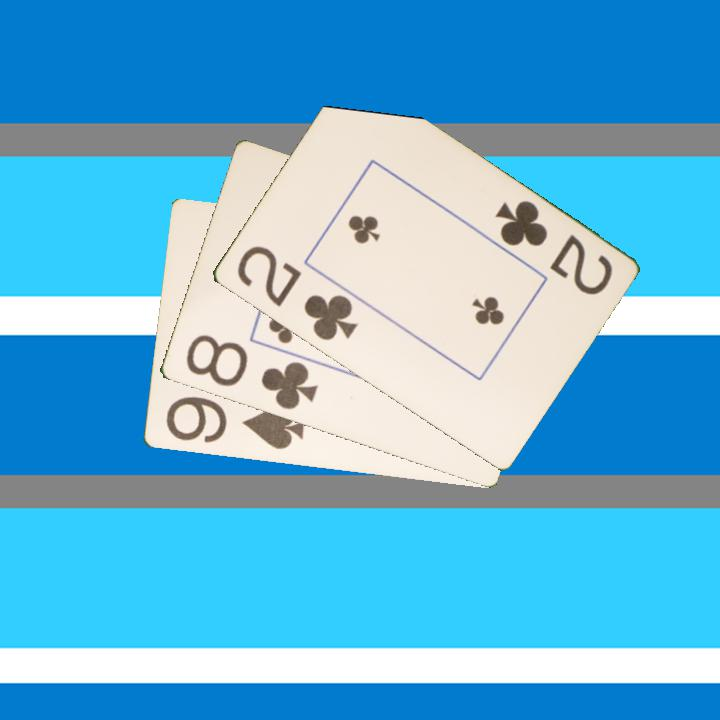2c: (232, 242, 360, 344), (491, 196, 615, 299)
8c: (182, 331, 320, 413)
9s: (161, 393, 307, 453)
